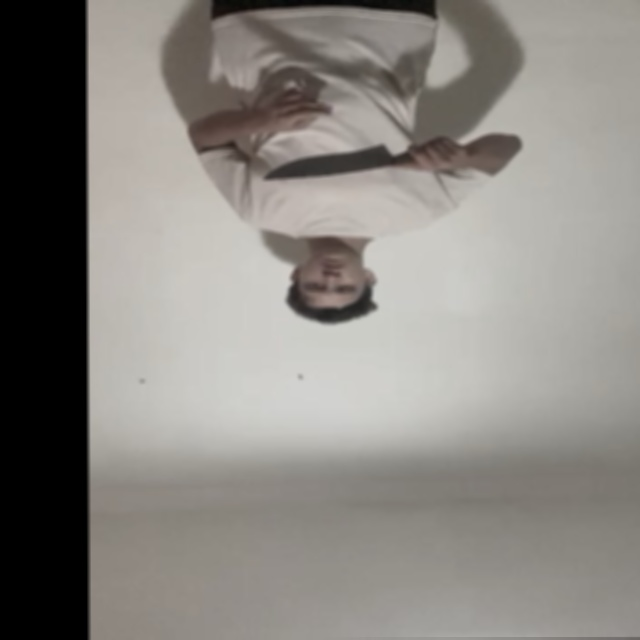Sharp-Object: (259, 146, 396, 181)
